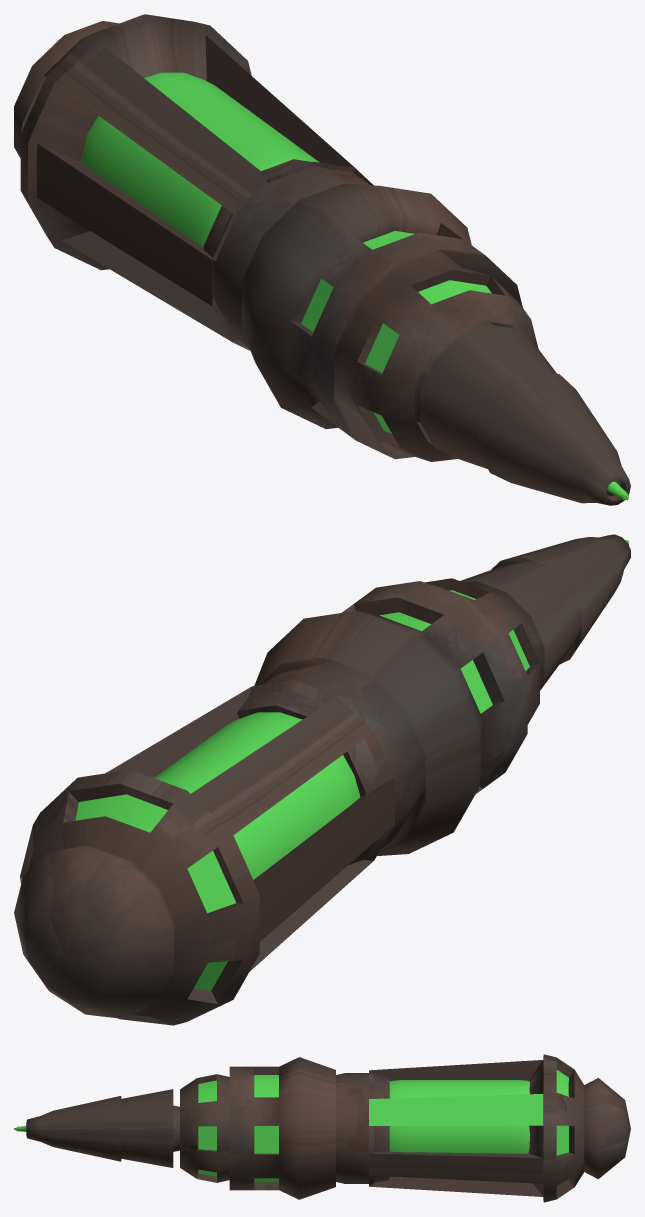
File: powerup needle_0002.fbx
3 renders of one model, top to bottom at view 1: azimuth 30°, elevation 25°; view 2: azimuth 150°, elevation 25°; view 3: azimuth 270°, elevation 25°, orthographic. The views are drawn at different scales.
Parts seen in each view (by area): view 1: Capsule, Capsule_1; view 2: Capsule, Capsule_1; view 3: Capsule, Capsule_1.
Boxes of the visible parts, box(x1,y1,x2,y2) form: Capsule: box(14, 14, 630, 505); Capsule_1: box(81, 72, 319, 247); Capsule: box(14, 534, 630, 1025); Capsule_1: box(154, 712, 360, 879); Capsule: box(14, 1054, 630, 1202); Capsule_1: box(389, 1080, 529, 1177).
Bounding box in the file's own units: 150 × 151 × 626.
Materials: 2 (1 with a texture image).
